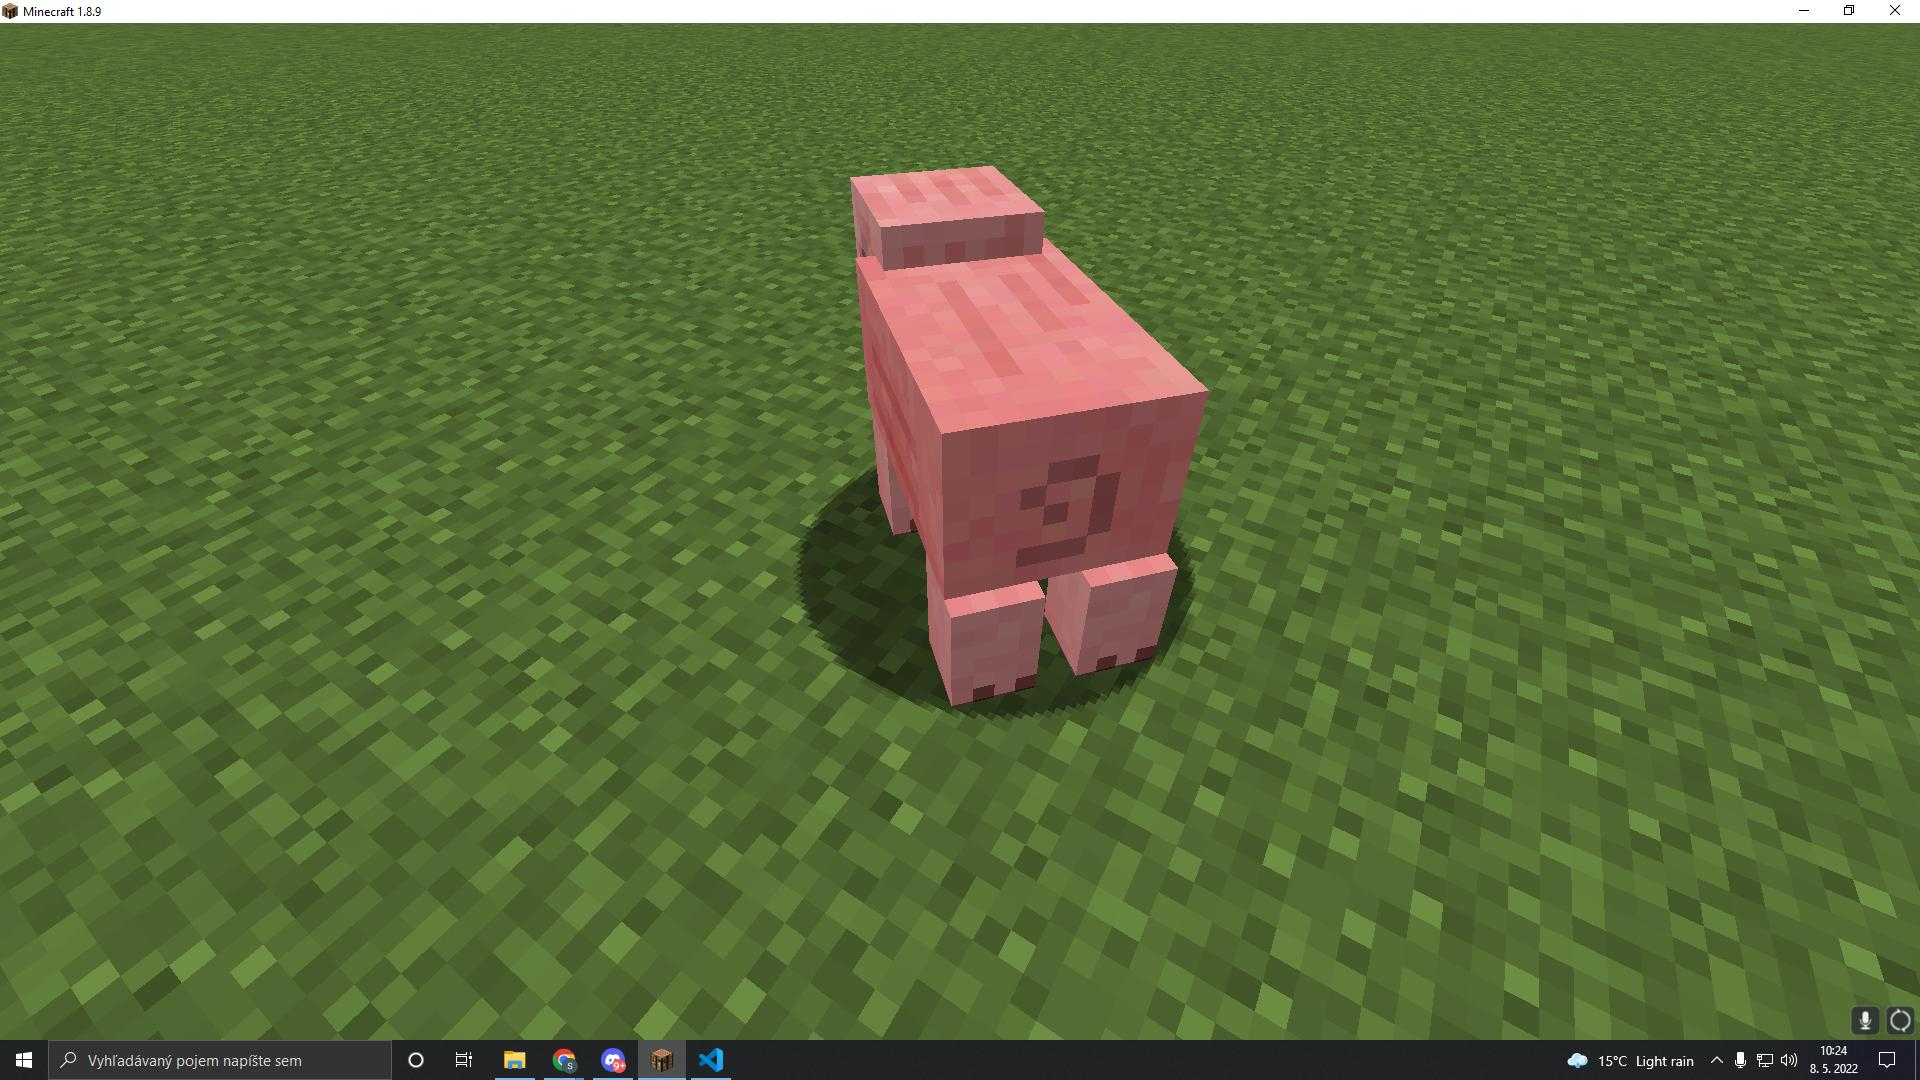pig: (825, 153, 1220, 724)
